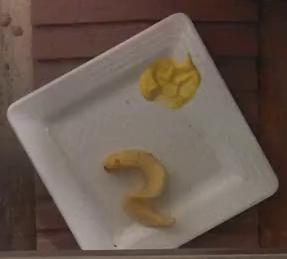fries: (103, 148, 172, 225)
